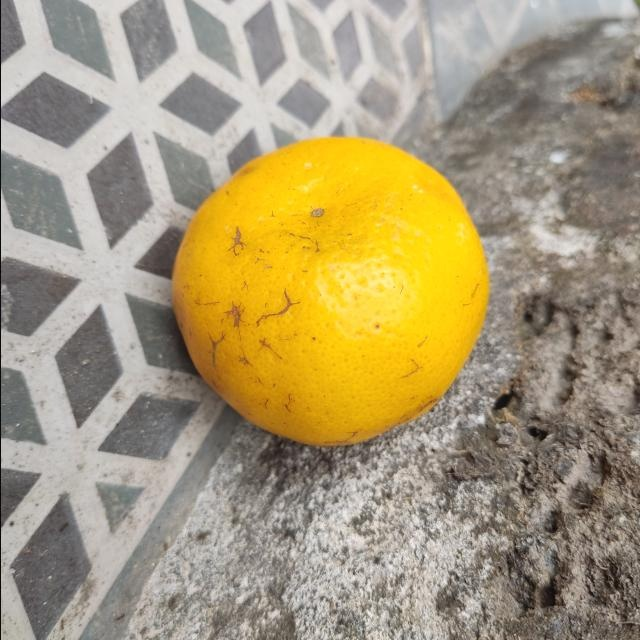agrume: (165, 133, 491, 443)
